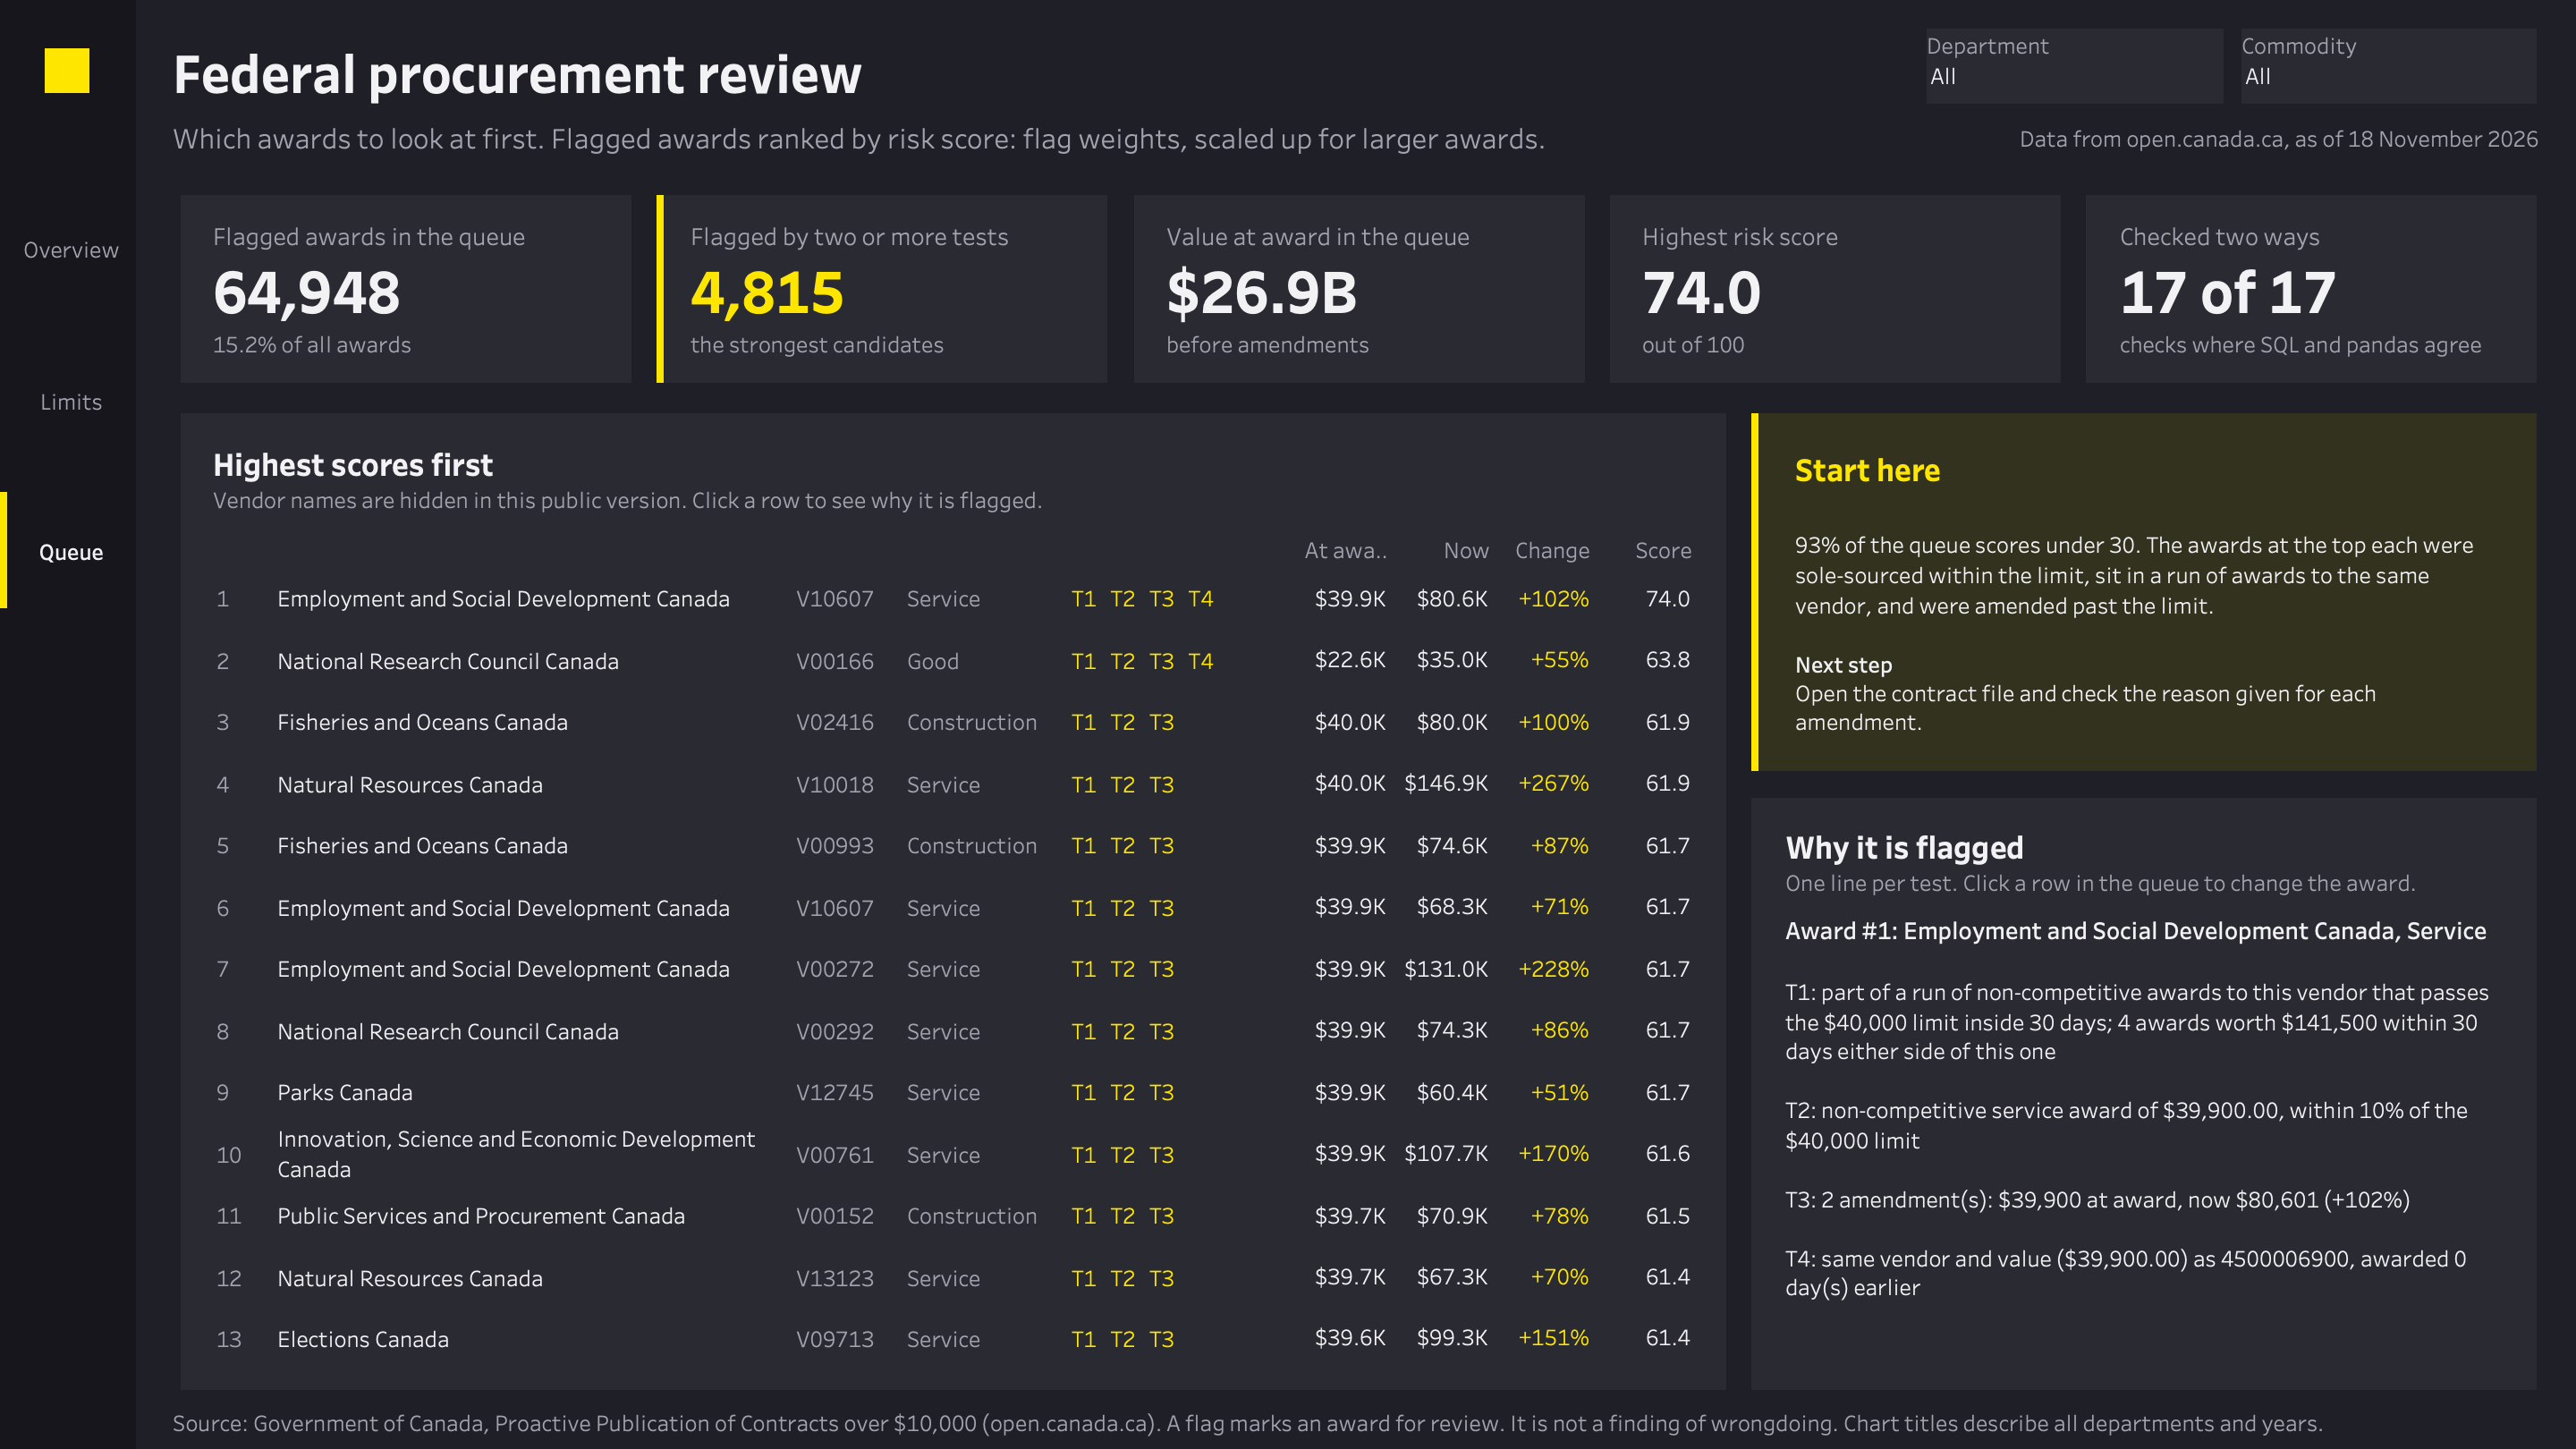

Layout of this report page (visuals, bound fields, positions):
{"tool":"tableau","page":{"name":"Queue","canvas":[1440,810],"ordinal":2},"visuals":[{"type":"blank","box":[0,0,75.6,810]},{"type":"filter","title":"Card: queue size","param":"[awards].[none:department:nk]","box":[1077.3,16.2,165.6,41.4]},{"type":"filter","title":"Card: queue size","param":"[awards].[none:commodity:nk]","box":[1252.8,16.2,165.6,41.4]},{"type":"text","box":[93.6,19.8,630,41.4]},{"type":"blank","box":[25.2,27,25.2,25.2]},{"type":"text","box":[93.6,64.8,882,25.2]},{"type":"text","box":[1062,64.8,360,25.2]},{"type":"blank","box":[100.8,108.9,252,105.3]},{"type":"blank","box":[367.2,108.9,252,105.3]},{"type":"blank","box":[367.2,108.9,3.6,105.3]},{"type":"blank","box":[633.6,108.9,252,105.3]},{"type":"blank","box":[900,108.9,252,105.3]},{"type":"blank","box":[1166.4,108.9,252,105.3]},{"type":"worksheet","title":"Card: queue size","mark":"Text","box":[115.2,116.1,232.2,92.7]},{"type":"worksheet","title":"Card: two or more","mark":"Text","box":[381.6,116.1,232.2,92.7]},{"type":"worksheet","title":"Card: queue value","mark":"Text","box":[648,116.1,232.2,92.7]},{"type":"worksheet","title":"Card: top score","mark":"Text","box":[914.4,116.1,232.2,92.7]},{"type":"worksheet","title":"Card: checks","mark":"Text","box":[1180.8,116.1,232.2,92.7]},{"type":"text","box":[3.6,126,72,27]},{"type":"text","box":[3.6,210.6,72,27]},{"type":"blank","box":[100.8,231.3,864,545.4]},{"type":"blank","box":[979.2,231.3,439.2,199.8]},{"type":"blank","box":[979.2,231.3,3.6,199.8]},{"type":"worksheet","title":"Review queue","mark":"Text","rows":["risk_rank","department","vendor_code","commodity","c_tests"],"box":[115.2,242.1,835.2,523.8]},{"type":"text","box":[1000.8,245.7,399.6,174.6]},{"type":"blank","box":[0,275.4,3.6,64.8]},{"type":"text","box":[3.6,295.2,72,27]},{"type":"blank","box":[979.2,445.5,439.2,331.2]},{"type":"worksheet","title":"Why it is flagged","mark":"Text","rows":["risk_rank"],"box":[993.6,456.3,410.4,309.6]},{"type":"text","box":[93.6,784.8,1260,21.6]}]}

Visuals, with their boxes in screenshot pixels (x1, y1, x2, y2), scaled from the page's 1440x810 canvas onto the 2576x1449 screenshot:
blank: l=0, t=0, r=135, b=1448
"Card: queue size" filter: l=1928, t=29, r=2224, b=103
"Card: queue size" filter: l=2241, t=29, r=2538, b=103
text: l=167, t=36, r=1294, b=109
blank: l=45, t=48, r=90, b=93
text: l=167, t=116, r=1745, b=161
text: l=1900, t=116, r=2544, b=161
blank: l=181, t=195, r=631, b=383
blank: l=657, t=195, r=1107, b=383
blank: l=657, t=195, r=664, b=383
blank: l=1133, t=195, r=1584, b=383
blank: l=1610, t=195, r=2061, b=383
blank: l=2087, t=195, r=2538, b=383
"Card: queue size" worksheet (Text marks): l=206, t=208, r=622, b=374
"Card: two or more" worksheet (Text marks): l=682, t=208, r=1098, b=374
"Card: queue value" worksheet (Text marks): l=1159, t=208, r=1574, b=374
"Card: top score" worksheet (Text marks): l=1636, t=208, r=2051, b=374
"Card: checks" worksheet (Text marks): l=2113, t=208, r=2528, b=374
text: l=6, t=225, r=135, b=274
text: l=6, t=377, r=135, b=425
blank: l=181, t=414, r=1726, b=1389
blank: l=1751, t=414, r=2538, b=771
blank: l=1751, t=414, r=1758, b=771
"Review queue" worksheet (Text marks): l=206, t=433, r=1700, b=1370
text: l=1791, t=439, r=2505, b=752
blank: l=0, t=493, r=6, b=608
text: l=6, t=528, r=135, b=576
blank: l=1751, t=797, r=2538, b=1389
"Why it is flagged" worksheet (Text marks): l=1777, t=817, r=2512, b=1370
text: l=167, t=1404, r=2421, b=1443
